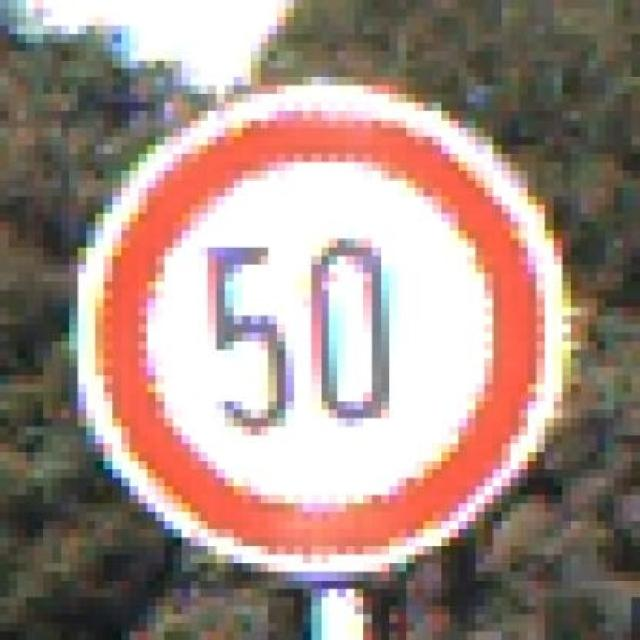forb_speed_over_50: (101, 99, 541, 561)
